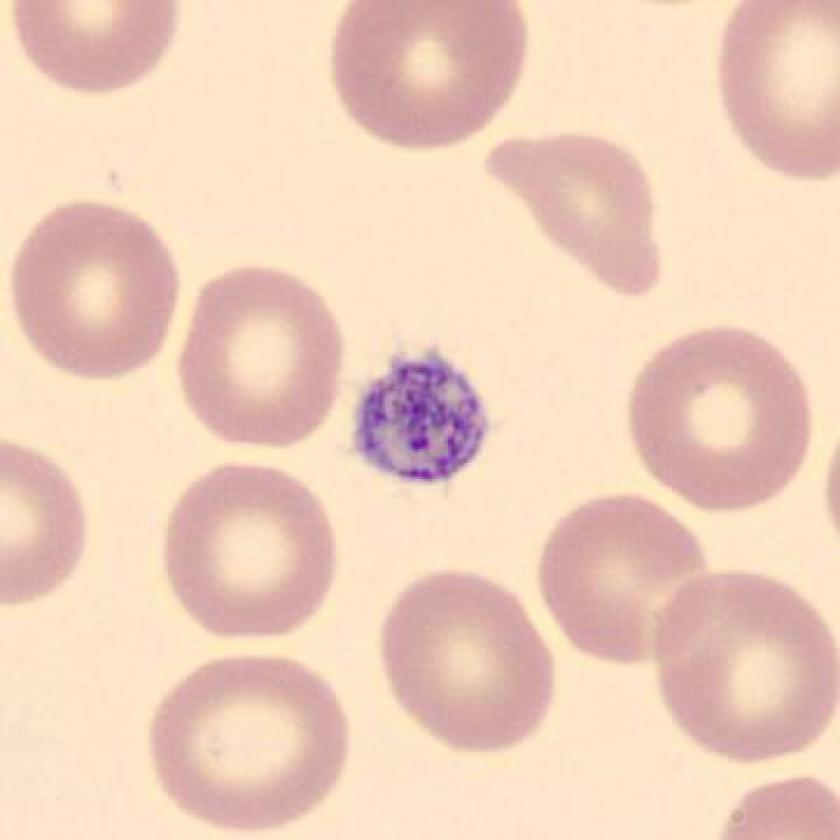platelets: (332, 337, 503, 503)
